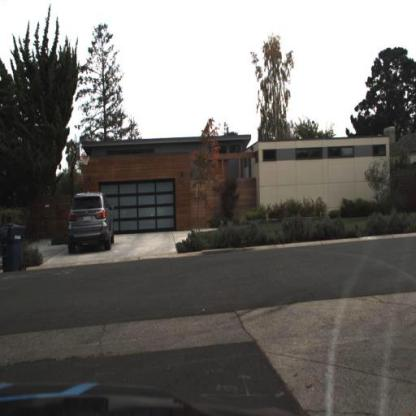car: (58, 183, 124, 258)
